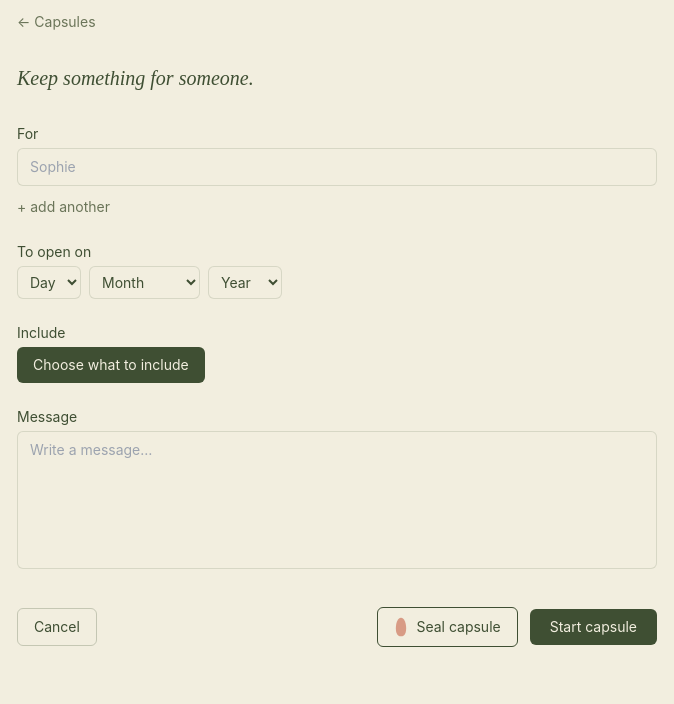
CapsuleCreatePage › shows validation errors when Start capsule clicked with empty fields
This screenshot has width=674, height=704.
Step 1. Click the button "Start capsule" → (593, 627), box [530,609,657,645]
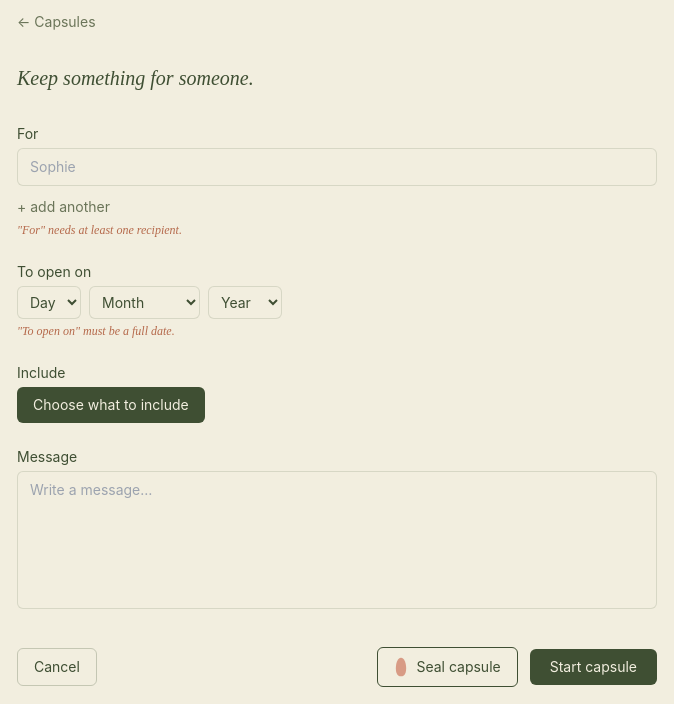
Now the text "\"For\" needs at least one recipient." is shown, box [17,223,182,237]
Now the text "\"To open on\" must be a full date." is shown, box [17,324,175,338]
